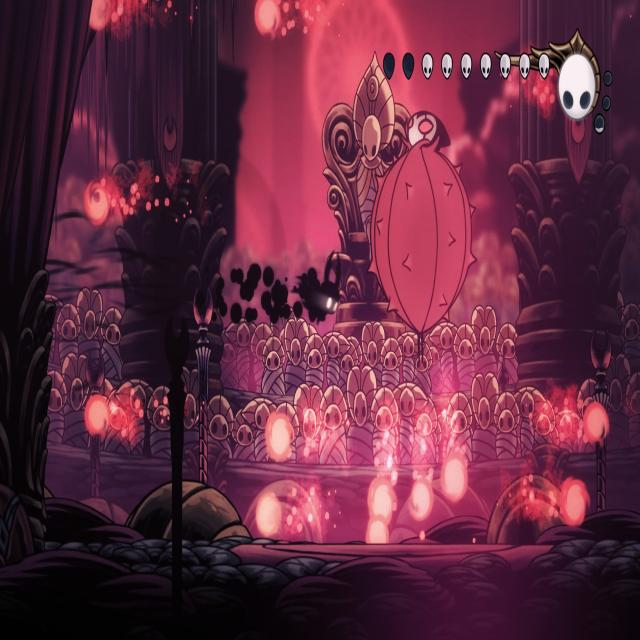Player: (304, 247, 344, 327)
Pufferfish: (365, 102, 481, 376)
Tiny Fireballs: (559, 478, 588, 529), (441, 456, 468, 504), (266, 413, 292, 461), (365, 478, 394, 520), (85, 181, 112, 226), (583, 400, 608, 446), (256, 494, 281, 536), (85, 395, 109, 438), (410, 479, 433, 520), (253, 0, 278, 36), (88, 0, 110, 33), (364, 519, 387, 545)
